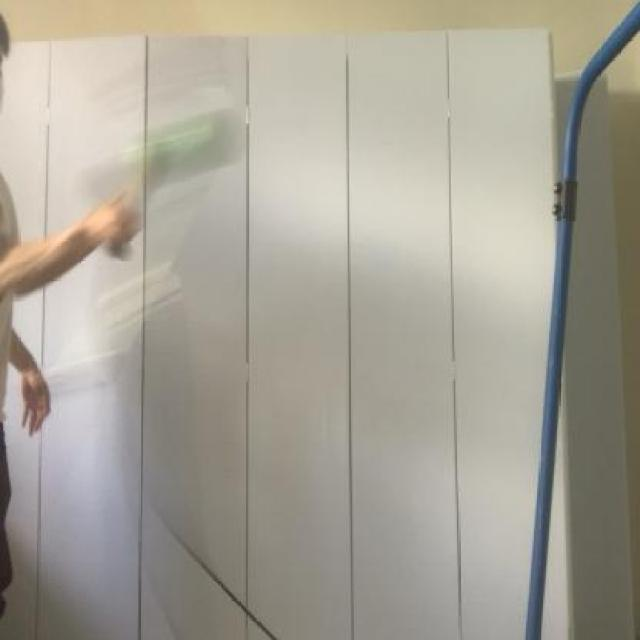baseball: (74, 96, 260, 199)
